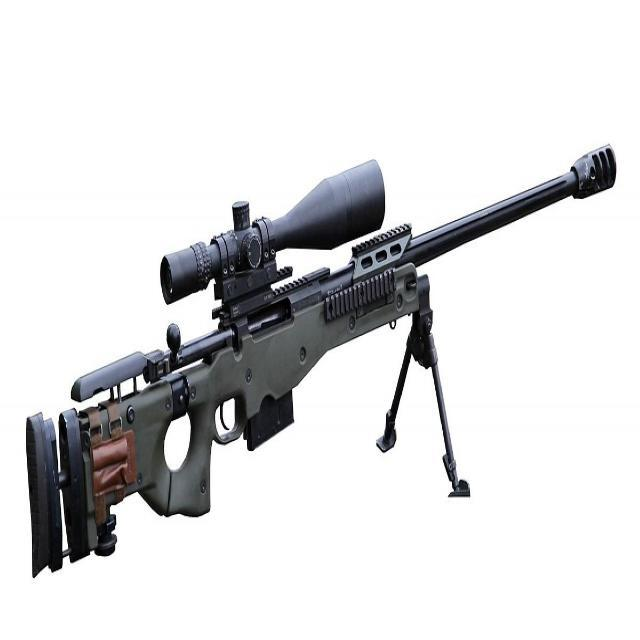scope: (145, 99, 392, 303)
sniper rifle: (22, 107, 624, 609)
